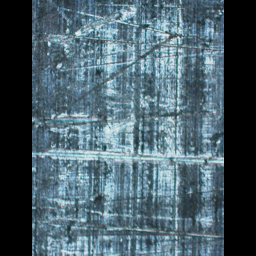d: (41, 0, 218, 247)
